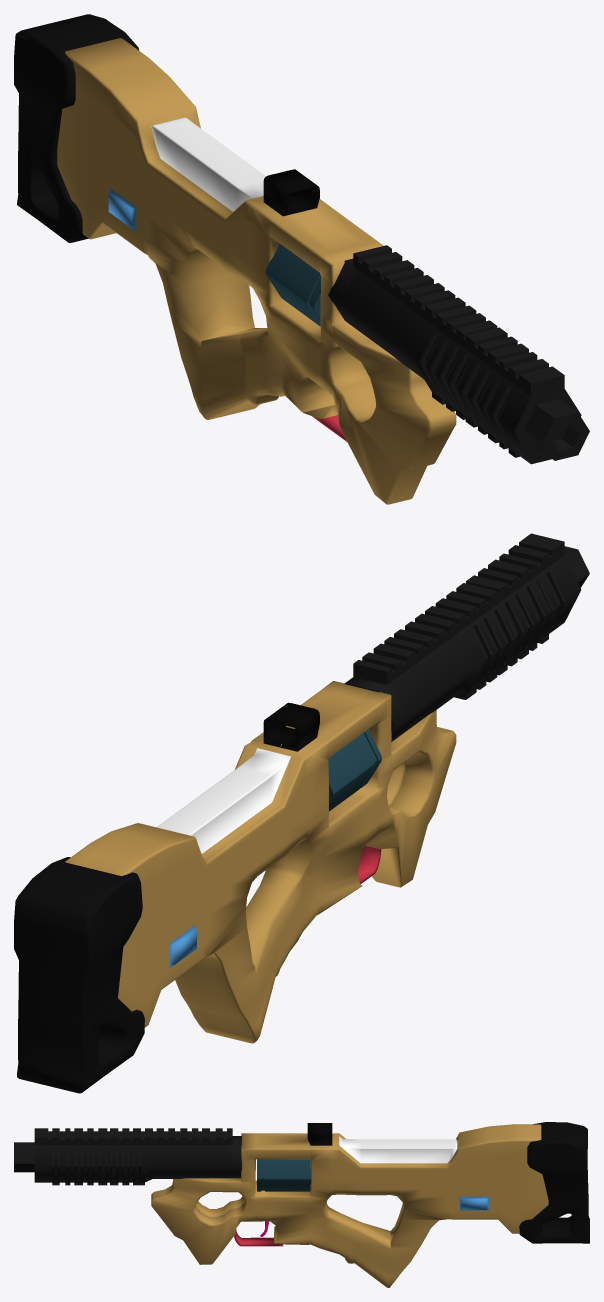
Rendered from AssaulRifleExport.FBX.
3 views of the same model, one above another, from view 1: azimuth 30°, elevation 25°; view 2: azimuth 150°, elevation 25°; view 3: azimuth 270°, elevation 25° (orthographic). The views are drawn at different scales.
Parts seen in each view (by area): view 1: RifleBody, Barrel, StockPlate, Mag; view 2: RifleBody, StockPlate, Barrel, Mag; view 3: RifleBody, Barrel, StockPlate, Mag.
Boxes of the visible parts, x1,y1,x2,y2 form: RifleBody: (57, 38, 456, 504); Barrel: (328, 245, 589, 464); StockPlate: (14, 14, 139, 242); Mag: (265, 243, 320, 326); RifleBody: (65, 681, 456, 1043); StockPlate: (14, 857, 144, 1093); Barrel: (344, 533, 589, 741); Mag: (328, 729, 381, 811); RifleBody: (151, 1123, 548, 1287); Barrel: (14, 1128, 241, 1185); StockPlate: (519, 1122, 589, 1243); Mag: (257, 1159, 311, 1191).
Bounding box in the file's own units: 3.38 × 11.45 × 38.64.
